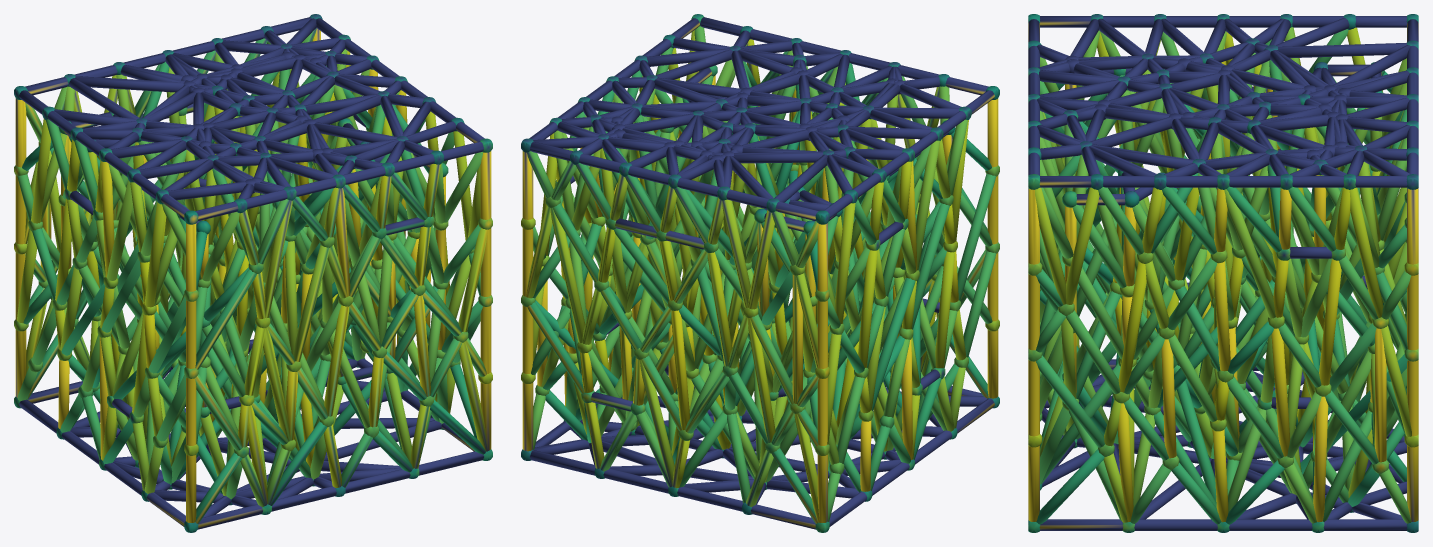
3 renders of one model, left to right at view 1: azimuth 30°, elevation 25°; view 2: azimuth 150°, elevation 25°; view 3: azimuth 270°, elevation 25°, orthographic. The views are drawn at different scales.
Visible parts, largest first — view 1: cube; view 2: cube; view 3: cube.
Part boxes in pixels (bbox=[...]): cube: bbox=[14, 14, 492, 532]; cube: bbox=[521, 14, 999, 532]; cube: bbox=[1028, 14, 1418, 532].
Bounding box in the file's own units: 60.28 × 60.28 × 60.28.
